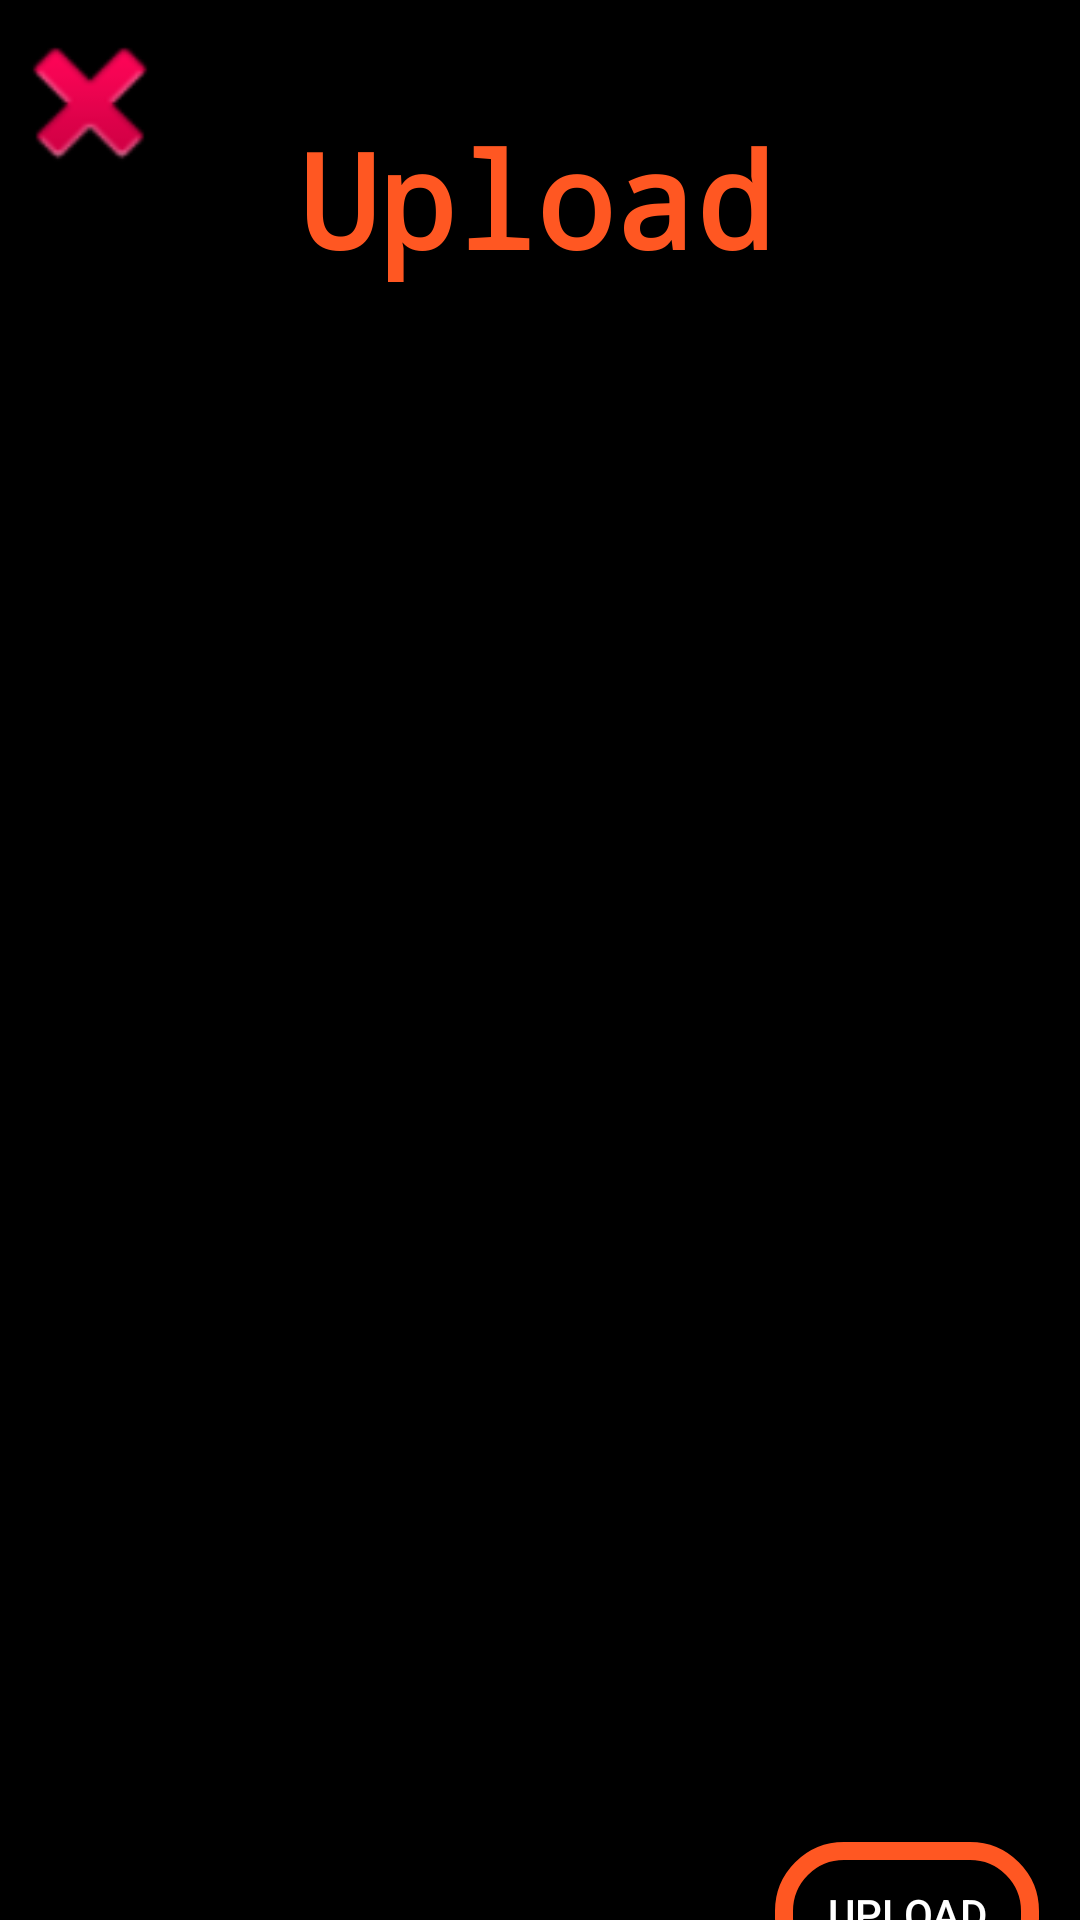

Named icons in this screenshot (1080 x 1920) and their centers, point (x, y):
delete: point (90, 103)
